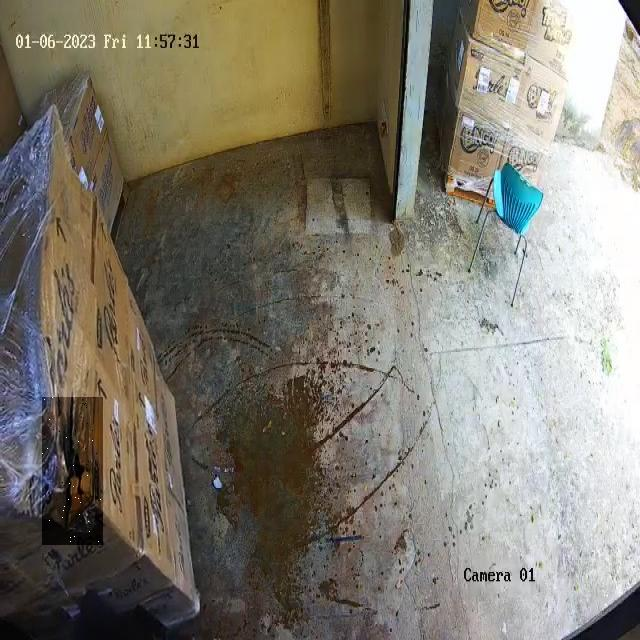leakage: (42, 397, 103, 545)
